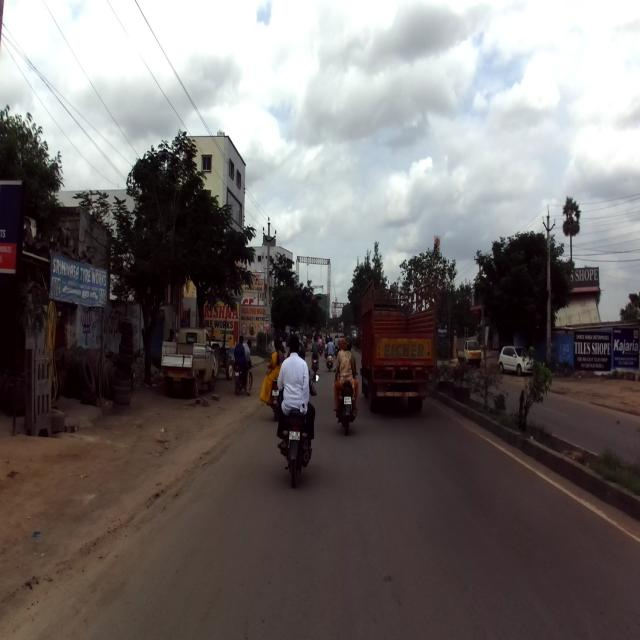motorcycle_Honda: (280, 370, 318, 488)
truck: (361, 273, 437, 412)
